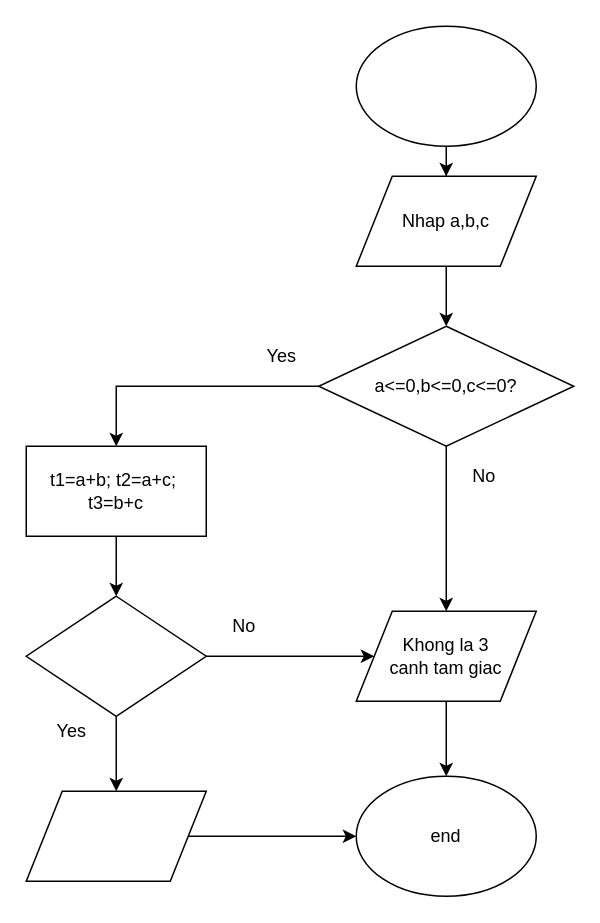
This 600x923 diagram has some shape labels left out. The shapes that lost their labels are listed below. From the top down, each one's centre as x and y in pixels, then its label:
(445,85): start
(115,655): t1>c,t2>b,t3>a?
(115,835): La 3 canh tam giac
